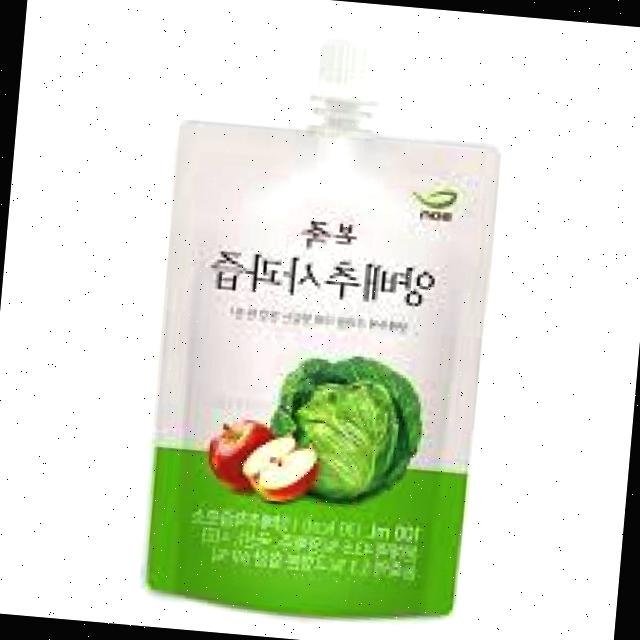cabbage: (286, 351, 428, 502)
